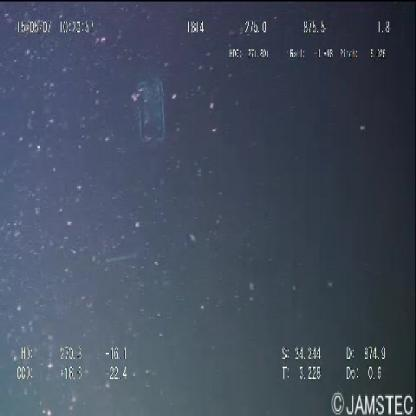Rác: (132, 72, 170, 151)
